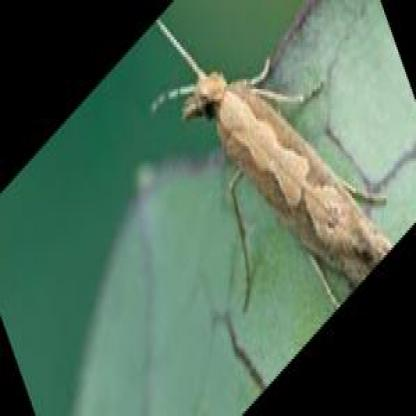plutella: (152, 15, 394, 322)
